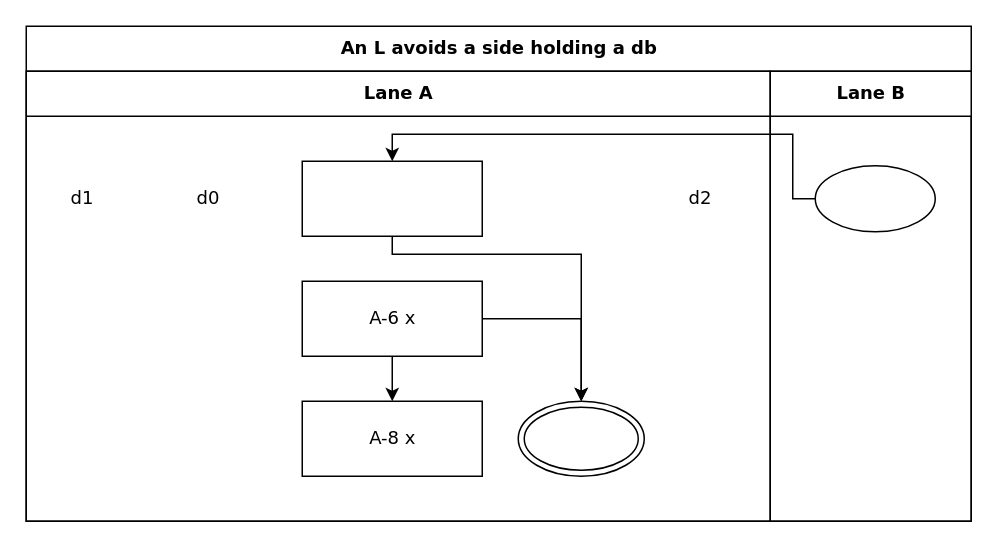
The diagram is 998 pixels wide and 548 high, and some of its shapes have lost their labels. The shapes that lost their labels are listed below. From the top down, each one's centre as x and y in pixels, then its label:
At point (391, 198): "A-4 x".
At point (874, 198): "B-1 x".
At point (580, 438): "A-7 x".
